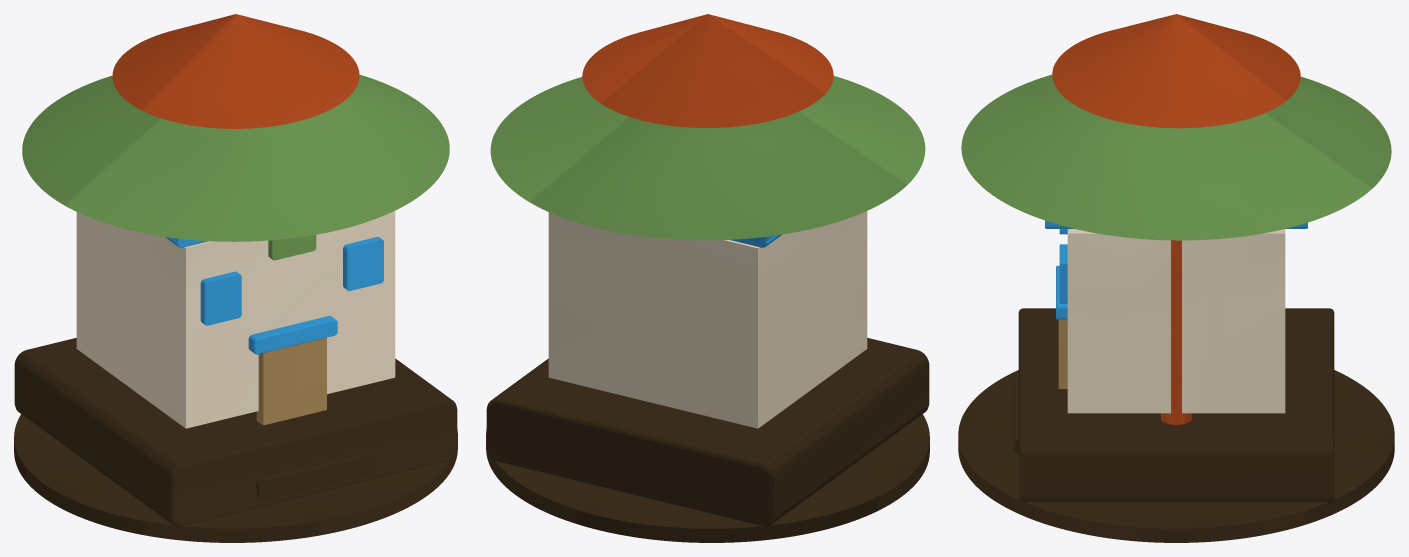
Rendered from 0800_中国建筑图鉴_皖南天井院.glb.
3 views of the same model, side by side, from view 1: azimuth 30°, elevation 25°; view 2: azimuth 150°, elevation 25°; view 3: azimuth 270°, elevation 25° (orthographic).
Visible parts, largest first — view 1: card_0800; view 2: card_0800; view 3: card_0800.
Part boxes in pixels (x1=…): card_0800: x1=14, y1=14, x2=457, y2=542; card_0800: x1=486, y1=14, x2=929, y2=542; card_0800: x1=958, y1=14, x2=1394, y2=542.
Size of the model in its own units: 0.9265 by 1 by 0.9091.
